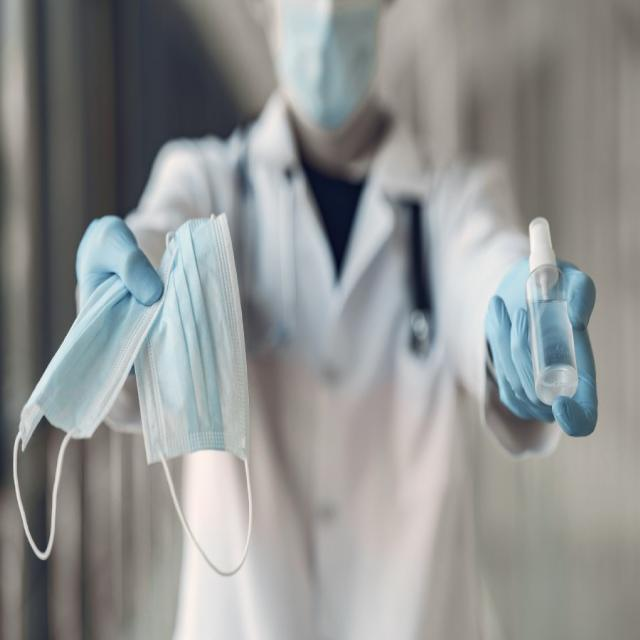Gloves: (475, 247, 609, 464)
Mask: (21, 211, 271, 527), (270, 0, 390, 134)
